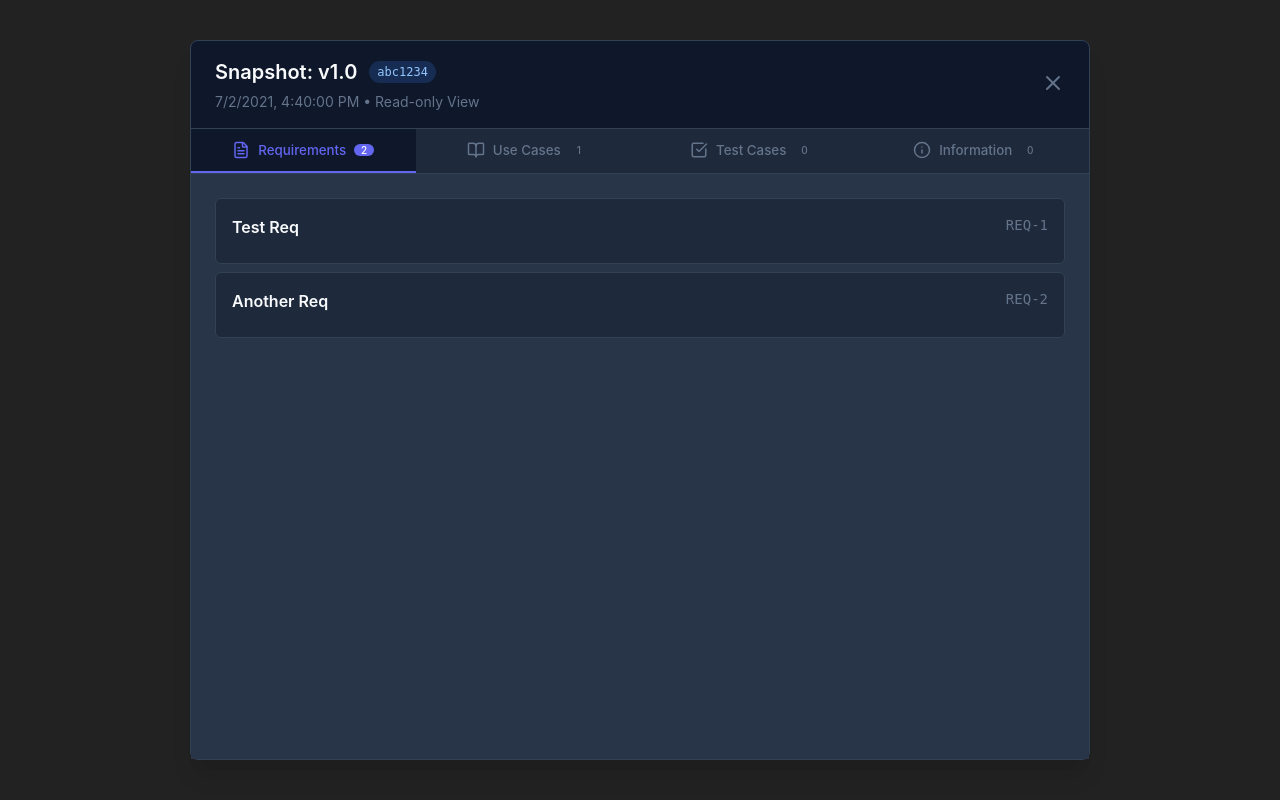
it: SnapshotViewer › should display empty state for empty tabs
Expected: the text "Test Req" is shown, [232,215,299,239]
What coordinates should you click on to do the following:
click the button "Test Cases 0"
I would click on:
 (752, 151)
Its box is [640,129,864,173].
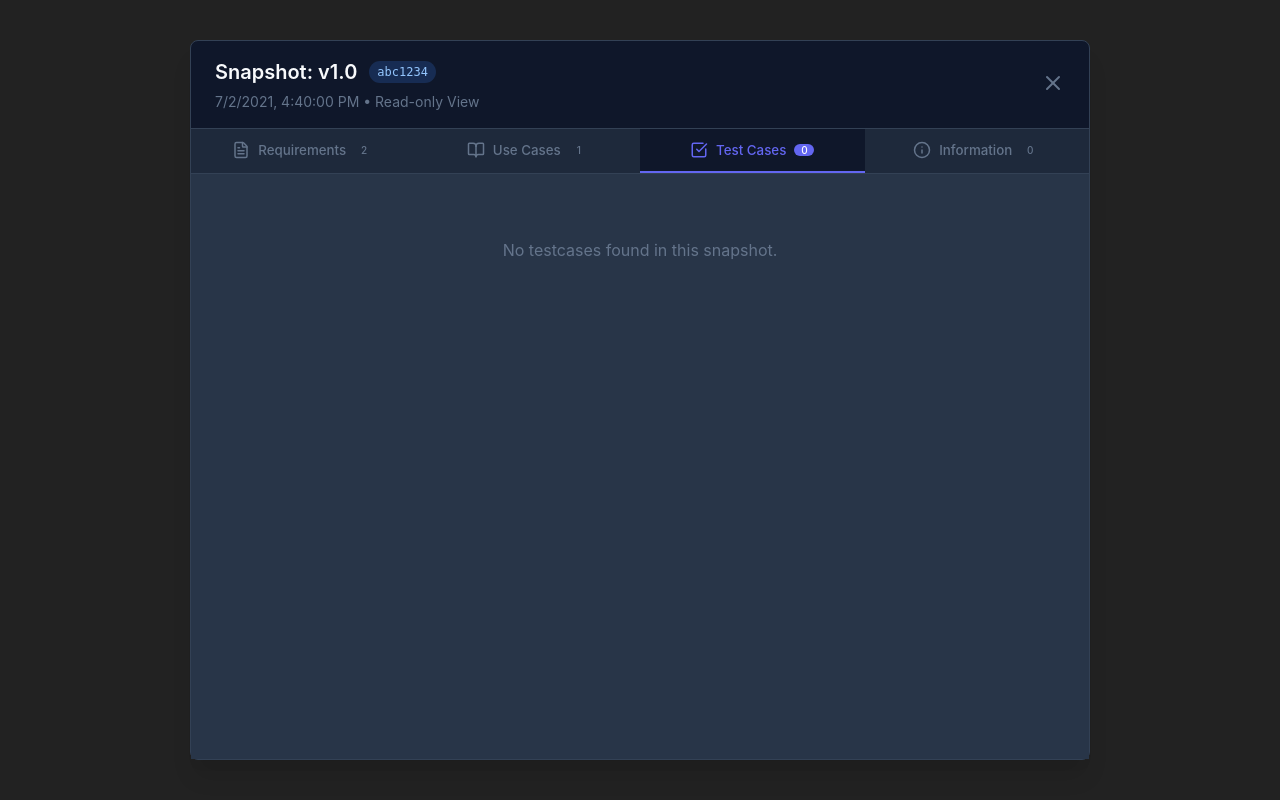
Expected: the text "No testcases found in this snapshot." is shown, [503,240,777,260]
